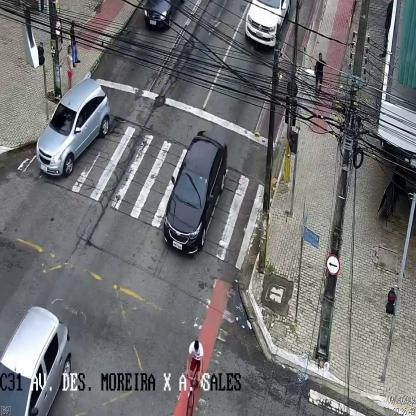bicycle: (184, 338, 204, 415)
car: (163, 132, 228, 254), (36, 78, 111, 179), (244, 0, 286, 49), (144, 0, 184, 30)
person: (69, 21, 81, 70), (315, 52, 326, 93), (66, 46, 74, 89)
